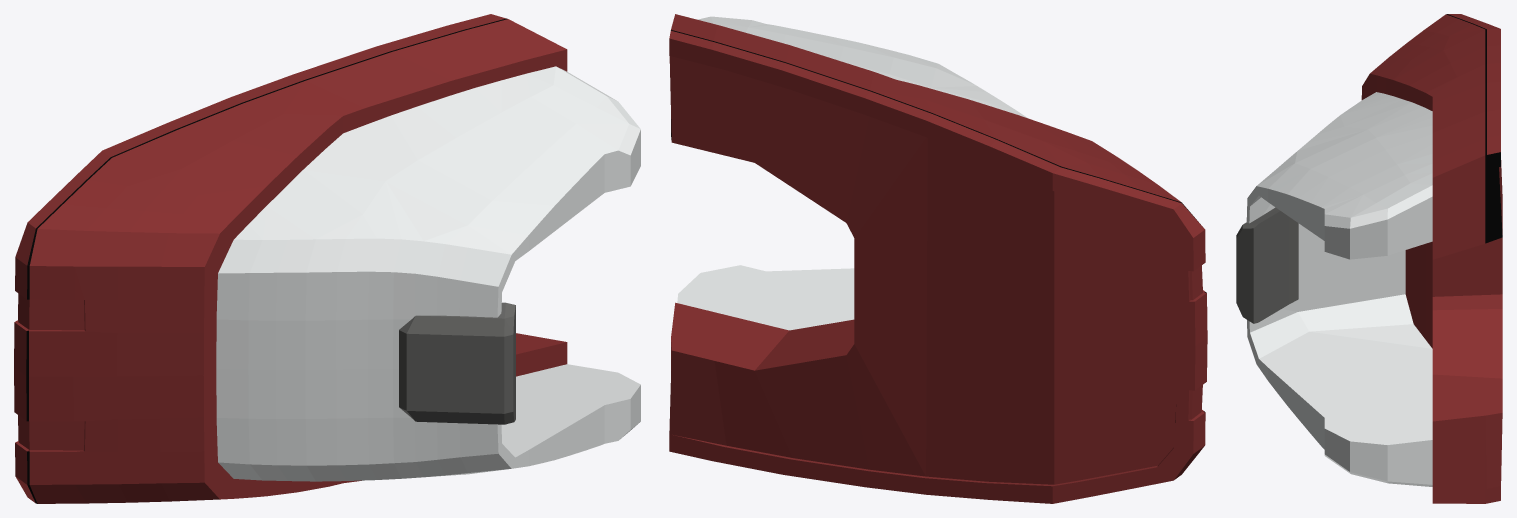
The model's file is rx78_object_091-lib.dae.
3 views of the same model, side by side, from view 1: azimuth 30°, elevation 25°; view 2: azimuth 150°, elevation 25°; view 3: azimuth 270°, elevation 25° (orthographic). The views are drawn at different scales.
Visible parts, largest first — view 1: rx78_object_091Mesh-node; view 2: rx78_object_091Mesh-node; view 3: rx78_object_091Mesh-node.
Part boxes in pixels (box(x1,y1,x2,y2)): rx78_object_091Mesh-node: box(14, 14, 640, 503); rx78_object_091Mesh-node: box(669, 14, 1207, 503); rx78_object_091Mesh-node: box(1236, 14, 1502, 503).
Size of the model in its own units: 34.12 by 24.2 by 16.75.
